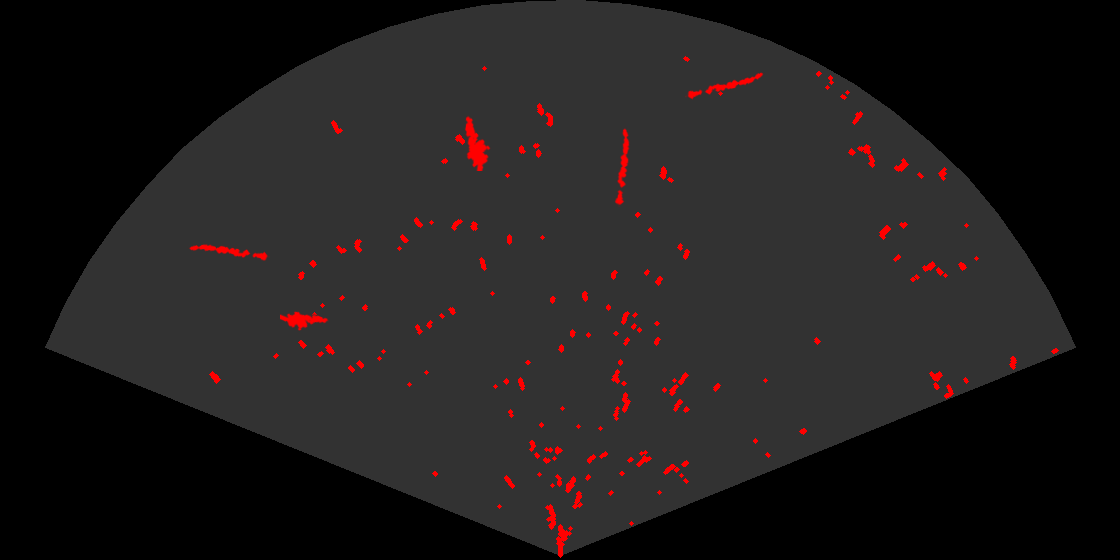chain: (685, 71, 765, 101), (187, 242, 270, 262), (613, 126, 631, 207)
frogman: (463, 115, 492, 171), (280, 310, 329, 332)
